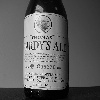beer: (22, 1, 72, 100)
